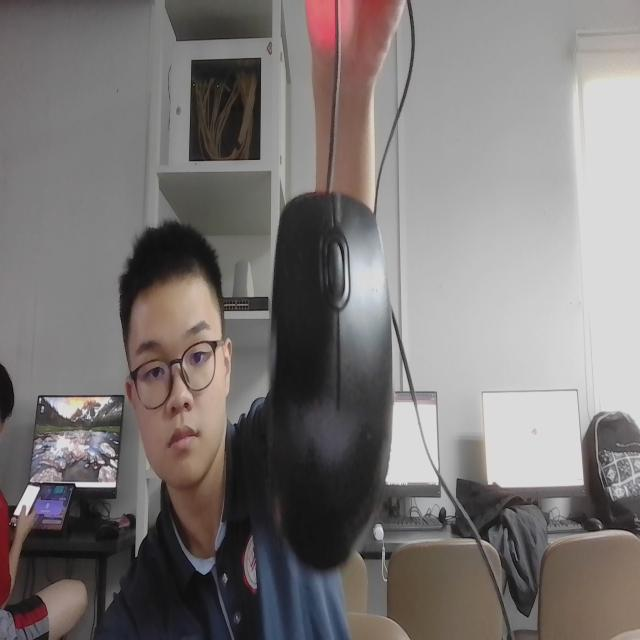mouse: (262, 179, 393, 588)
